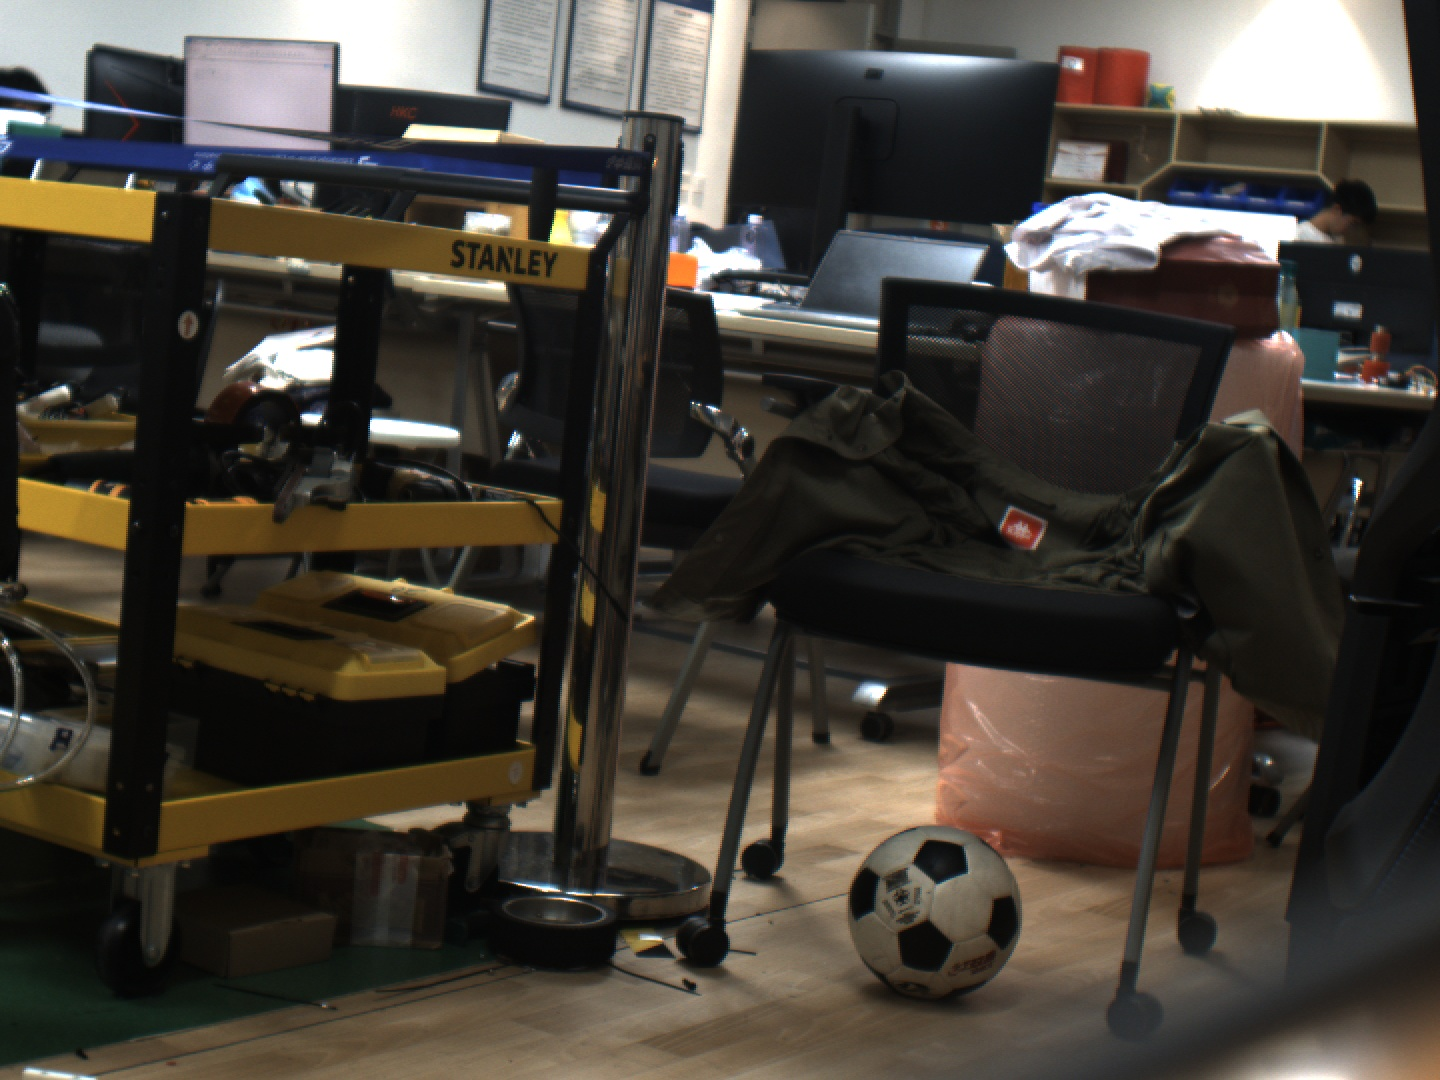ball: (839, 800, 1048, 1015)
